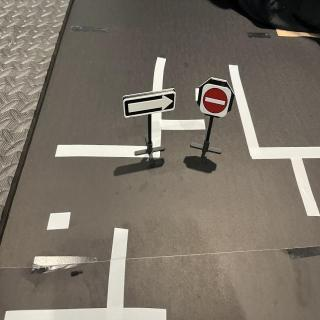sign_noentry: (200, 84, 234, 122)
sign_oneway_right: (124, 87, 178, 119)
